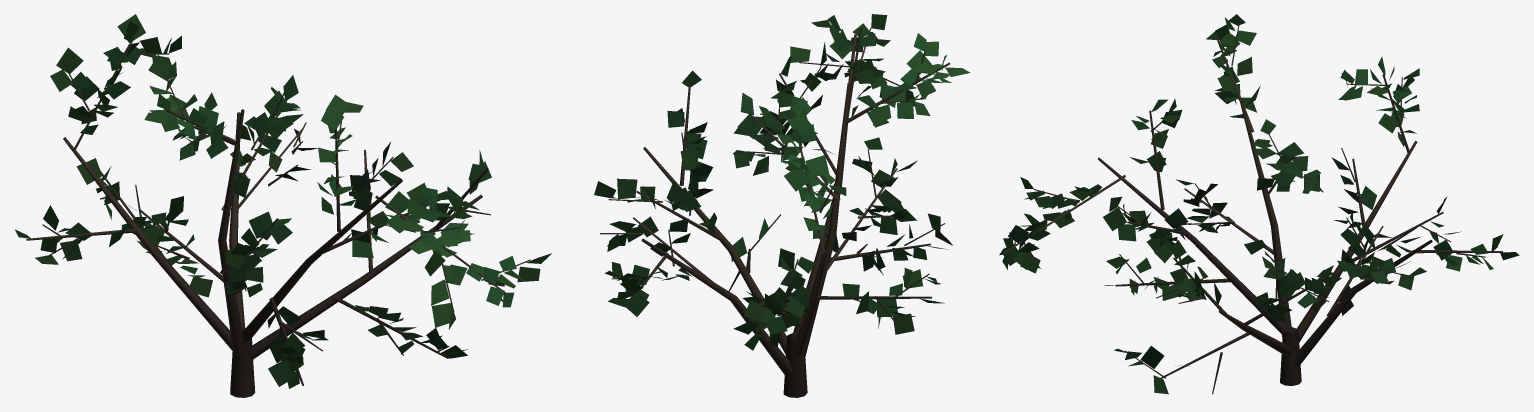
The model's file is bush-holly-b.lod0.glb.
3 renders of one model, left to right at view 1: azimuth 30°, elevation 25°; view 2: azimuth 150°, elevation 25°; view 3: azimuth 270°, elevation 25°, orthographic. The views are drawn at different scales.
Visible parts, largest first — view 1: bush-holly-b.lod0; view 2: bush-holly-b.lod0; view 3: bush-holly-b.lod0.
Part boxes in pixels (x1,y1,x2,y2): bush-holly-b.lod0: (15, 14, 551, 397); bush-holly-b.lod0: (594, 14, 970, 397); bush-holly-b.lod0: (999, 14, 1519, 394).
Bounding box in the file's own units: 1.26 × 1.16 × 1.68.
